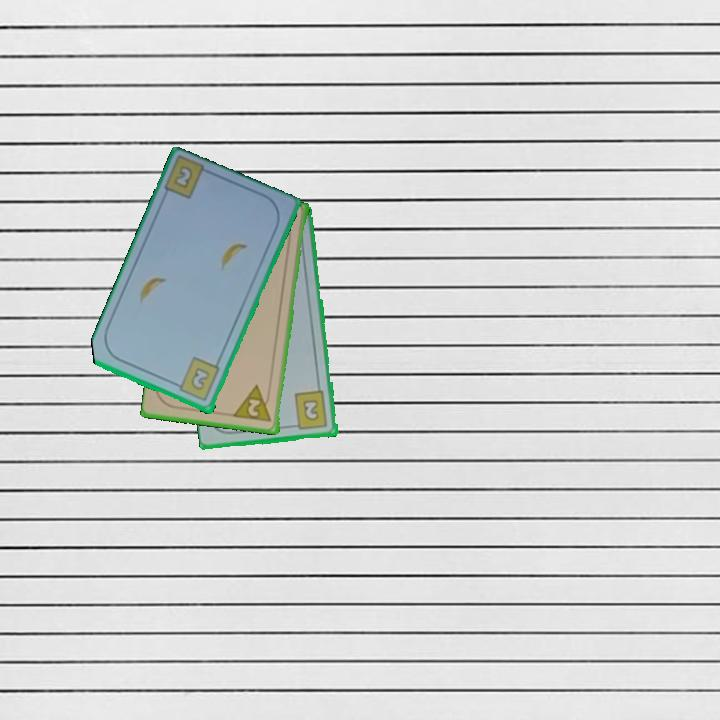2b: (171, 354, 223, 404), (288, 388, 330, 433), (170, 162, 196, 192)
2p: (232, 382, 275, 425)
